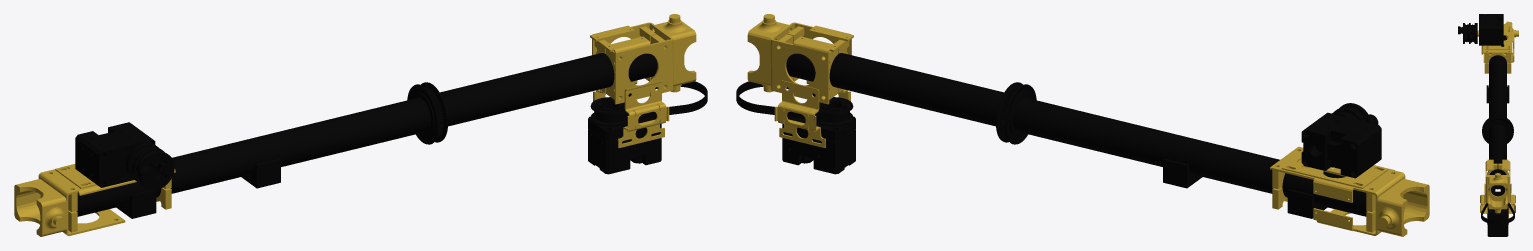
File: general_link.dae
3 renders of one model, left to right at view 1: azimuth 30°, elevation 25°; view 2: azimuth 150°, elevation 25°; view 3: azimuth 270°, elevation 25°, orthographic. The views are drawn at different scales.
Visible parts, largest first — view 1: general_link_black, general_link_gold; view 2: general_link_black, general_link_gold; view 3: general_link_black, general_link_gold.
Boxes of the visible parts, x1,y1,x2,y2 form: general_link_black: [75, 43, 707, 218]; general_link_gold: [14, 14, 696, 236]; general_link_black: [736, 43, 1381, 218]; general_link_gold: [747, 14, 1429, 236]; general_link_black: [1458, 14, 1514, 236]; general_link_gold: [1477, 21, 1518, 224].
Bounding box in the file's own units: 0.5565 × 0.0843 × 0.1221.
